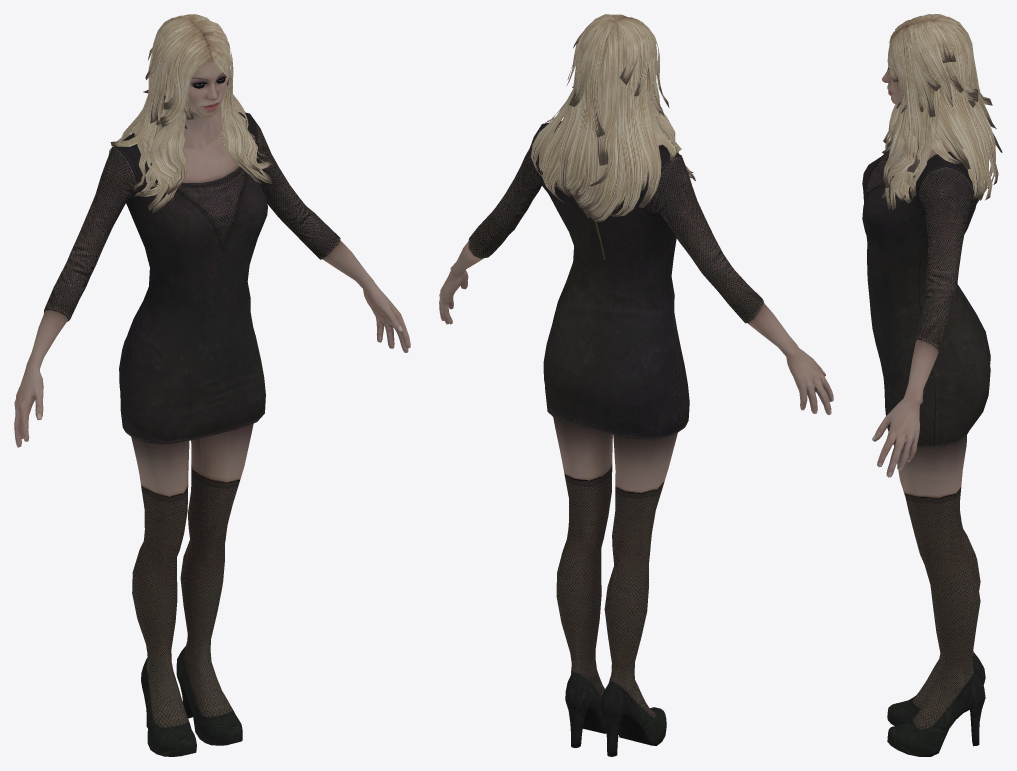
File: girl_dress.glb
3 views of the same model, side by side, from view 1: azimuth 30°, elevation 25°; view 2: azimuth 150°, elevation 25°; view 3: azimuth 270°, elevation 25° (orthographic).
Visible parts, largest first — view 1: dancer07; view 2: dancer07; view 3: dancer07.
Boxes of the visible parts, x1,y1,x2,y2 form: dancer07: (14,14,410,756); dancer07: (439,14,833,756); dancer07: (862,14,1002,756).
Size of the model in its own units: 3.13 by 5.51 by 0.9761.
2 materials, 2 textured.
